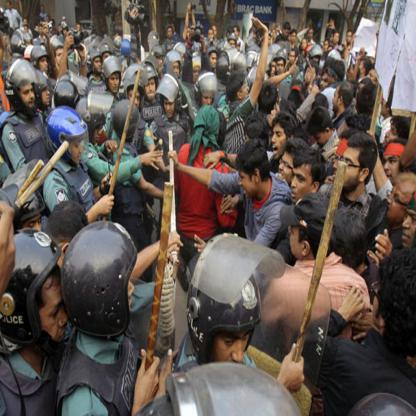face: (210, 317, 251, 378), (39, 276, 68, 346), (105, 269, 136, 326), (372, 272, 389, 332), (386, 177, 405, 223), (291, 164, 313, 203), (342, 146, 360, 193), (22, 214, 43, 252), (279, 151, 295, 186), (289, 217, 302, 260), (403, 208, 416, 249), (383, 155, 401, 184), (272, 126, 287, 160), (239, 168, 254, 199), (334, 151, 348, 181), (383, 124, 398, 150), (20, 84, 36, 108), (69, 140, 84, 165), (244, 133, 256, 164), (313, 127, 328, 147), (91, 122, 102, 145), (164, 99, 176, 119), (146, 78, 156, 101), (129, 91, 141, 110), (109, 74, 120, 94), (202, 92, 214, 110), (242, 78, 250, 103), (357, 84, 367, 104), (381, 94, 390, 116), (328, 68, 338, 86), (333, 87, 340, 112), (42, 87, 51, 106), (39, 58, 49, 74), (56, 49, 65, 66), (171, 64, 180, 81), (193, 66, 202, 83), (269, 61, 277, 78), (322, 74, 330, 91), (94, 58, 103, 73), (210, 54, 218, 70), (277, 60, 285, 76), (367, 71, 375, 86), (360, 61, 367, 77), (290, 52, 296, 65), (156, 57, 163, 68), (80, 53, 86, 64), (104, 54, 111, 63), (313, 56, 320, 65), (212, 27, 218, 37), (27, 40, 32, 51), (309, 30, 314, 41), (167, 29, 173, 38), (230, 41, 236, 50), (209, 30, 214, 40), (234, 28, 239, 37), (285, 29, 290, 38), (292, 33, 297, 42), (302, 41, 307, 50), (348, 33, 352, 44), (325, 42, 330, 50), (335, 34, 339, 44), (267, 36, 271, 45), (40, 28, 44, 35), (64, 29, 68, 36), (25, 27, 29, 33), (24, 20, 28, 26), (77, 26, 81, 32), (331, 34, 334, 42), (8, 3, 11, 10), (273, 31, 276, 37), (47, 18, 50, 23), (42, 7, 45, 12)
